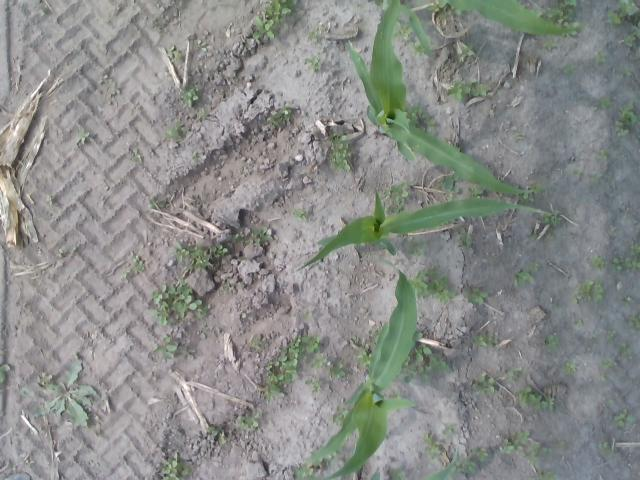Maize: (346, 1, 534, 194), (294, 258, 418, 480), (296, 190, 550, 272), (438, 0, 582, 36), (422, 448, 458, 480), (372, 466, 381, 480)
Weeds: (34, 360, 97, 428), (148, 276, 209, 326), (265, 335, 305, 400), (412, 268, 456, 302), (515, 429, 547, 464), (152, 336, 196, 361), (89, 76, 119, 107), (327, 133, 351, 171), (162, 454, 193, 480), (572, 280, 603, 306), (409, 104, 437, 128), (423, 434, 444, 464), (546, 0, 576, 19), (265, 1, 291, 22), (172, 243, 199, 263), (252, 16, 274, 38), (248, 227, 274, 245), (611, 258, 640, 274), (188, 250, 211, 270), (463, 286, 487, 305), (447, 82, 472, 100), (237, 412, 260, 431), (266, 108, 290, 126), (515, 388, 536, 408), (614, 409, 636, 428), (164, 122, 190, 138), (620, 102, 638, 125), (404, 365, 427, 383), (478, 372, 497, 392), (128, 251, 146, 271), (394, 21, 412, 40), (304, 376, 321, 396), (619, 0, 640, 16), (474, 332, 496, 347), (444, 174, 462, 192), (408, 238, 426, 256), (514, 268, 532, 286), (430, 354, 450, 370), (330, 362, 347, 380), (301, 336, 319, 352), (182, 89, 198, 107), (294, 463, 312, 479), (392, 182, 408, 199), (332, 406, 348, 423), (416, 344, 431, 362), (523, 184, 539, 200), (542, 334, 560, 348), (428, 0, 449, 12), (458, 228, 472, 246), (211, 244, 228, 258), (614, 121, 628, 138), (474, 83, 491, 97), (623, 30, 637, 46), (75, 128, 89, 144), (0, 363, 10, 384), (409, 40, 423, 55), (306, 57, 322, 70), (148, 197, 166, 208), (358, 348, 369, 366), (312, 356, 326, 370), (500, 438, 514, 452), (390, 468, 406, 480), (460, 44, 474, 57), (546, 212, 561, 224), (294, 208, 308, 220), (167, 45, 179, 59), (442, 422, 456, 434), (610, 13, 622, 26), (565, 21, 577, 34), (508, 369, 520, 382), (475, 448, 488, 460), (536, 396, 548, 409), (196, 326, 207, 340), (250, 338, 264, 349), (564, 362, 576, 374), (620, 344, 633, 355), (594, 254, 604, 268), (132, 148, 142, 162), (208, 426, 222, 436), (629, 316, 639, 330), (540, 472, 557, 480), (21, 388, 34, 398), (466, 461, 477, 472), (198, 40, 208, 52), (592, 174, 604, 184), (469, 188, 484, 196), (598, 100, 611, 109), (310, 29, 318, 43), (594, 51, 604, 62), (544, 40, 555, 50), (452, 461, 461, 473), (598, 442, 610, 451), (630, 244, 640, 254), (528, 262, 538, 272), (548, 396, 555, 410), (606, 330, 616, 339), (624, 66, 632, 77), (621, 296, 629, 306), (554, 442, 564, 450), (563, 63, 571, 72), (600, 150, 608, 159), (601, 361, 611, 368), (608, 228, 616, 236), (124, 268, 130, 278), (232, 234, 239, 242), (198, 112, 207, 118), (515, 134, 523, 140), (572, 168, 578, 174), (530, 234, 536, 238), (600, 374, 604, 380), (578, 320, 582, 326)
